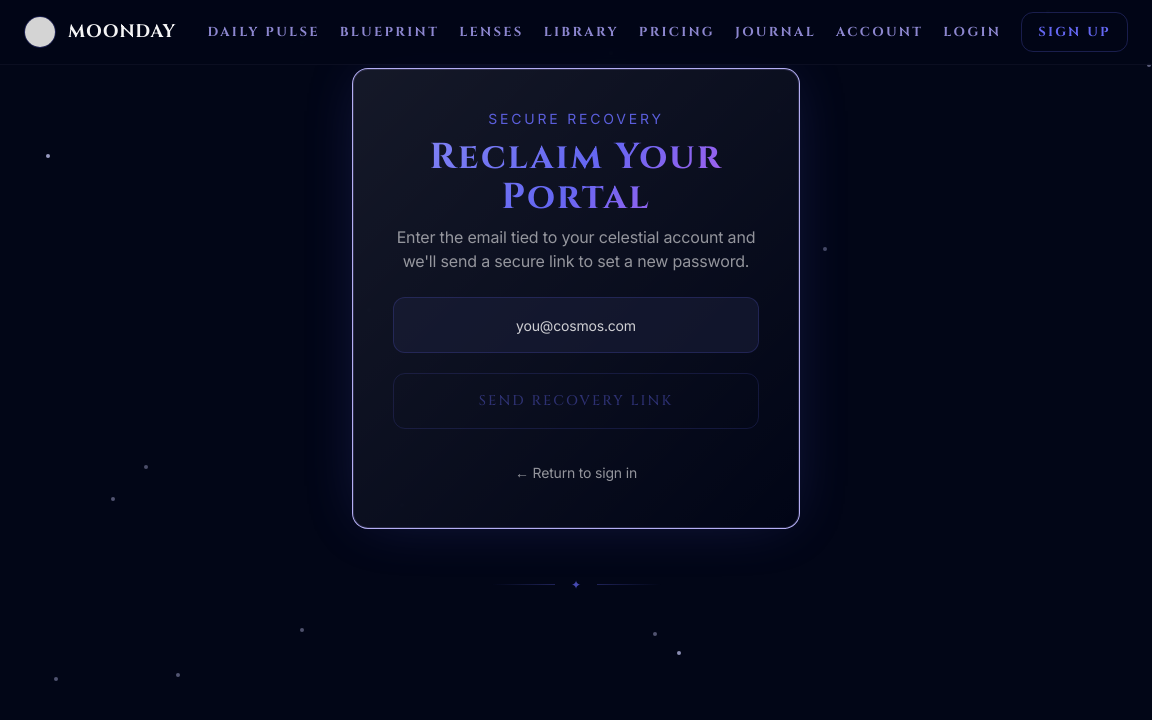
Test: Password Reset Flow › 1. Forgot Password Confirmation › shows inline success message and single Return to Sign In button on submit
Type "traveler@example.com" into the field with placeholder "you@cosmos.com" at (576, 325), box [393, 297, 759, 353]
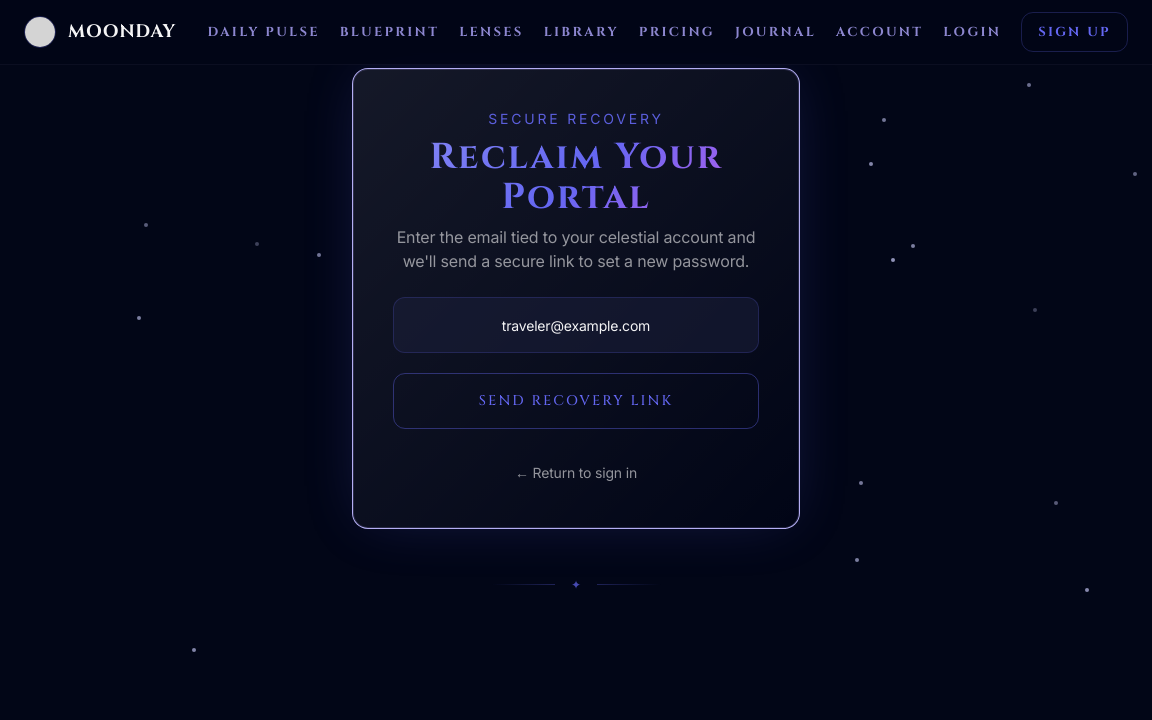
Click the button "Send Recovery Link" at (576, 401), box [393, 373, 759, 429]
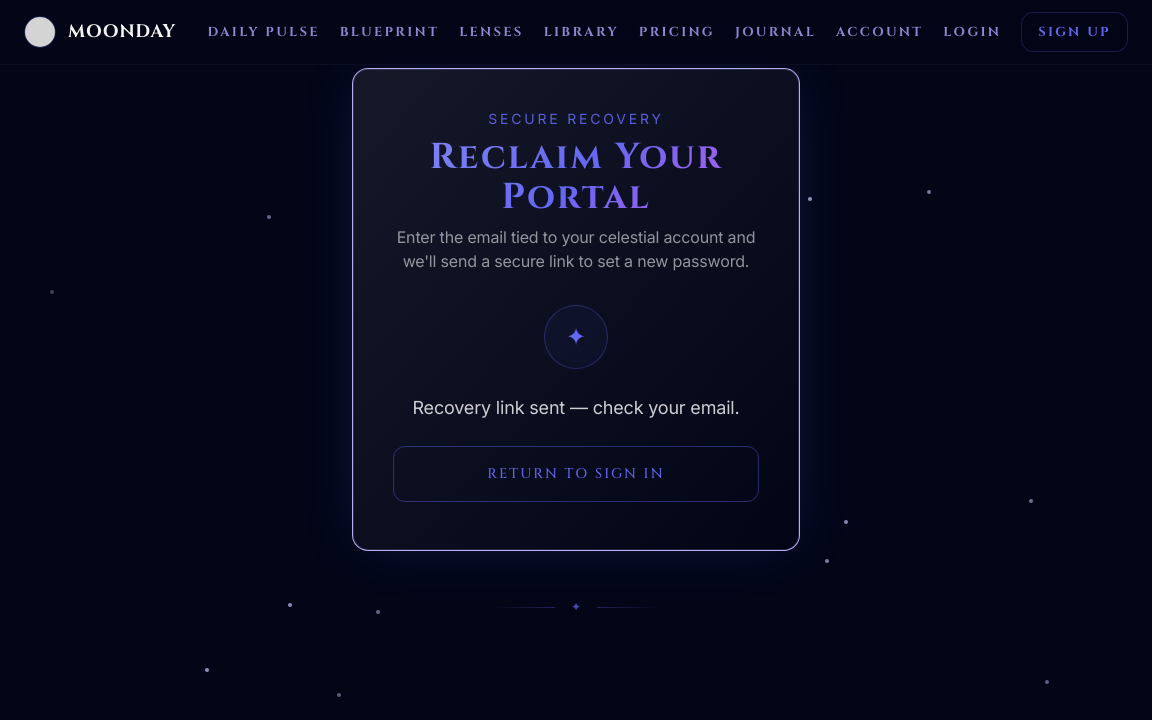
Expected: the field with placeholder "you@cosmos.com" is not shown
Result: the text "Recovery link sent — check your email." is shown at [393, 393, 759, 422]
Result: the button "Return to Sign In" is shown at [393, 446, 759, 502]
